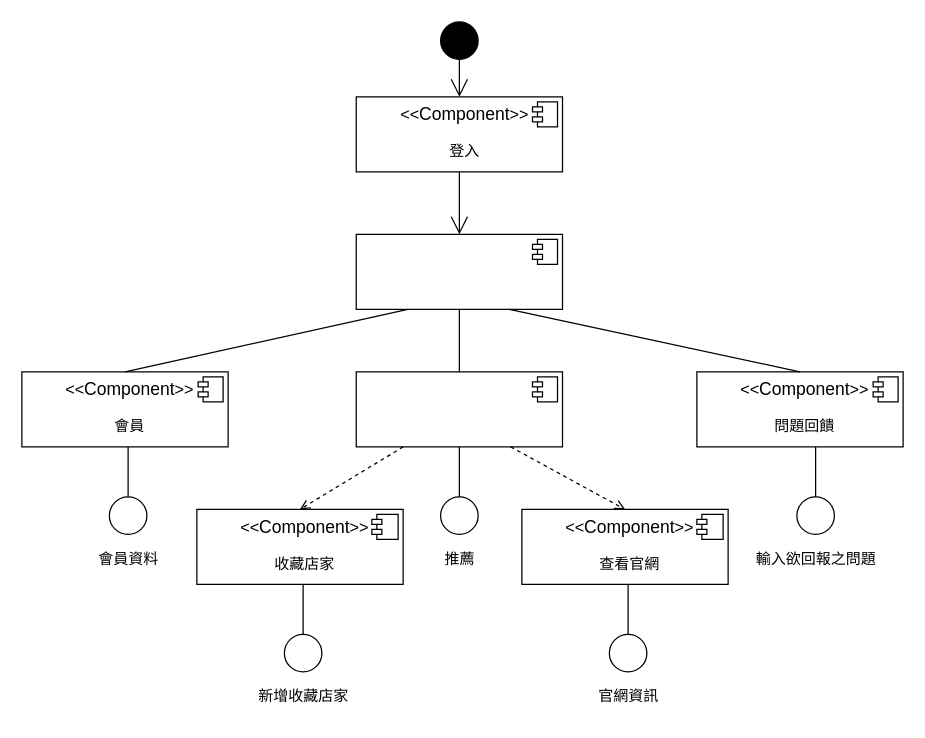
This 925x738 diagram has some shape labels left out. Each missing label, with the box of its shape:
<< Component >> 主頁: (355, 233, 562, 309)
<< Component >> 店家詳細資料: (355, 371, 562, 447)
